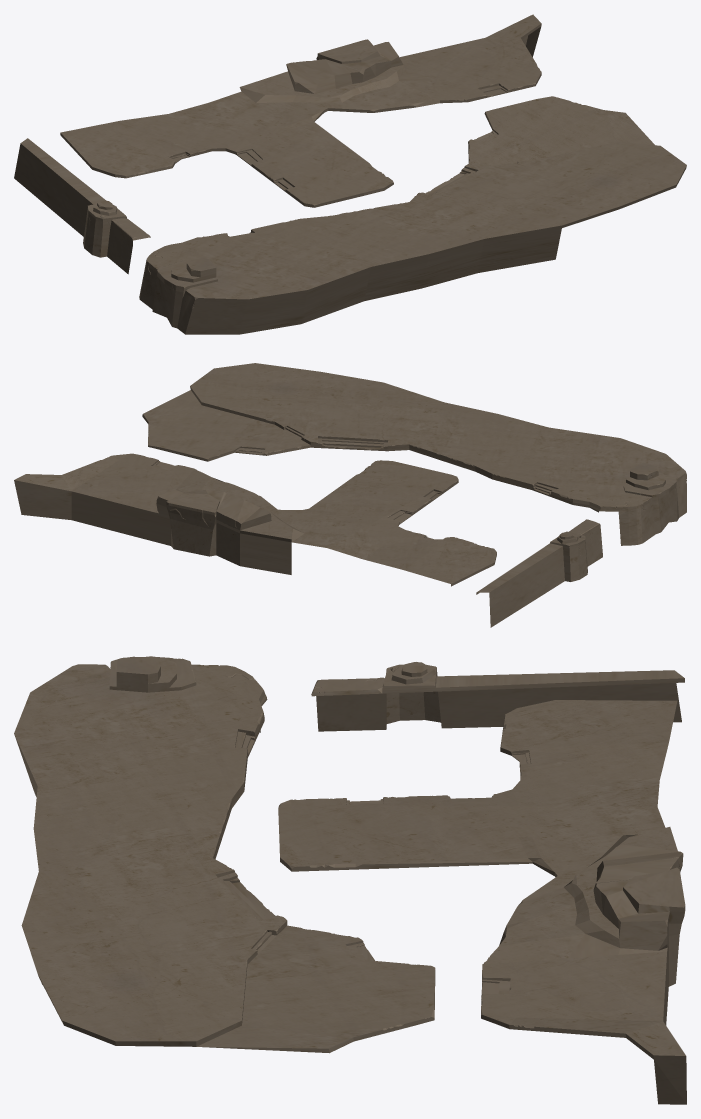
File: Tunisia Ground_BaseA.fbx
3 renders of one model, top to bottom at view 1: azimuth 30°, elevation 25°; view 2: azimuth 150°, elevation 25°; view 3: azimuth 270°, elevation 25°, orthographic. The views are drawn at different scales.
Parts seen in each view (by area): view 1: Tunisia Ground_BaseA; view 2: Tunisia Ground_BaseA; view 3: Tunisia Ground_BaseA.
Boxes of the visible parts, bbox=[...] form: Tunisia Ground_BaseA: bbox=[14, 14, 686, 334]; Tunisia Ground_BaseA: bbox=[14, 363, 686, 627]; Tunisia Ground_BaseA: bbox=[14, 656, 686, 1104].
Bounding box in the file's own units: 5938 × 654 × 4150.
1 material, 1 textured.
